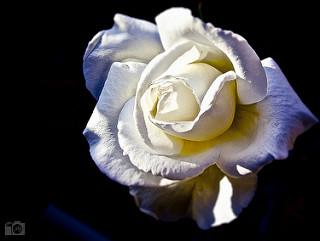Rose: (73, 5, 320, 241)
